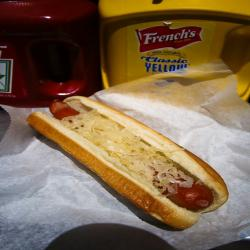hotdog: (25, 95, 233, 230)
